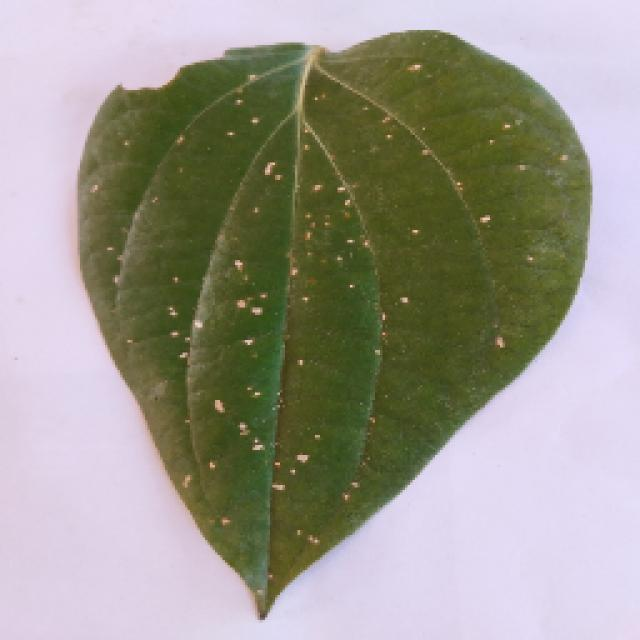pollu-disease: (40, 45, 598, 623)
